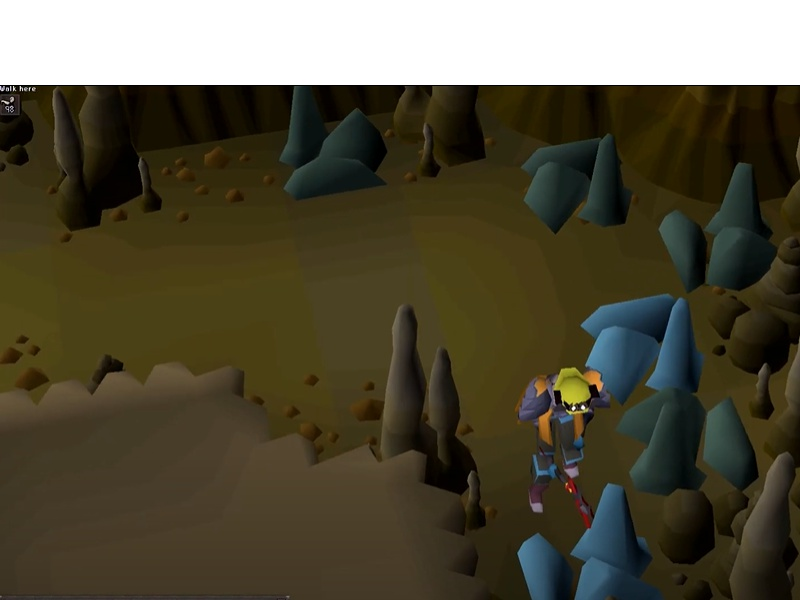adamant: (652, 161, 780, 294), (613, 386, 764, 497), (276, 87, 395, 208), (514, 130, 635, 237)
rune: (512, 478, 661, 600), (576, 291, 710, 403)
